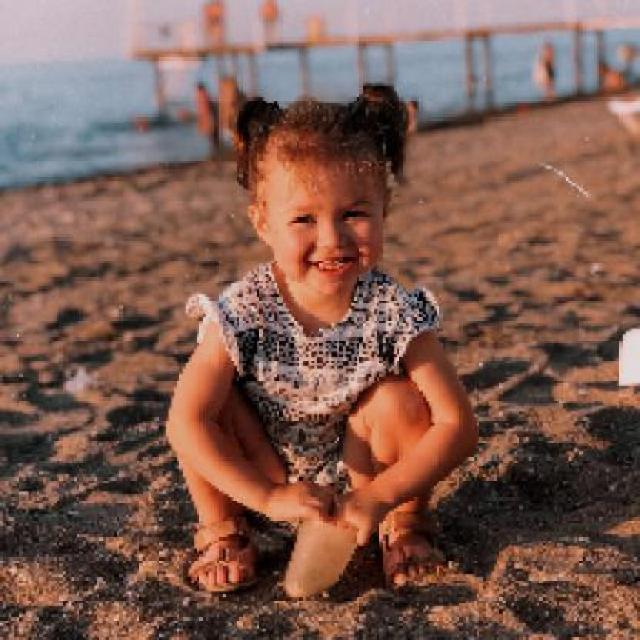child: (165, 80, 481, 597)
